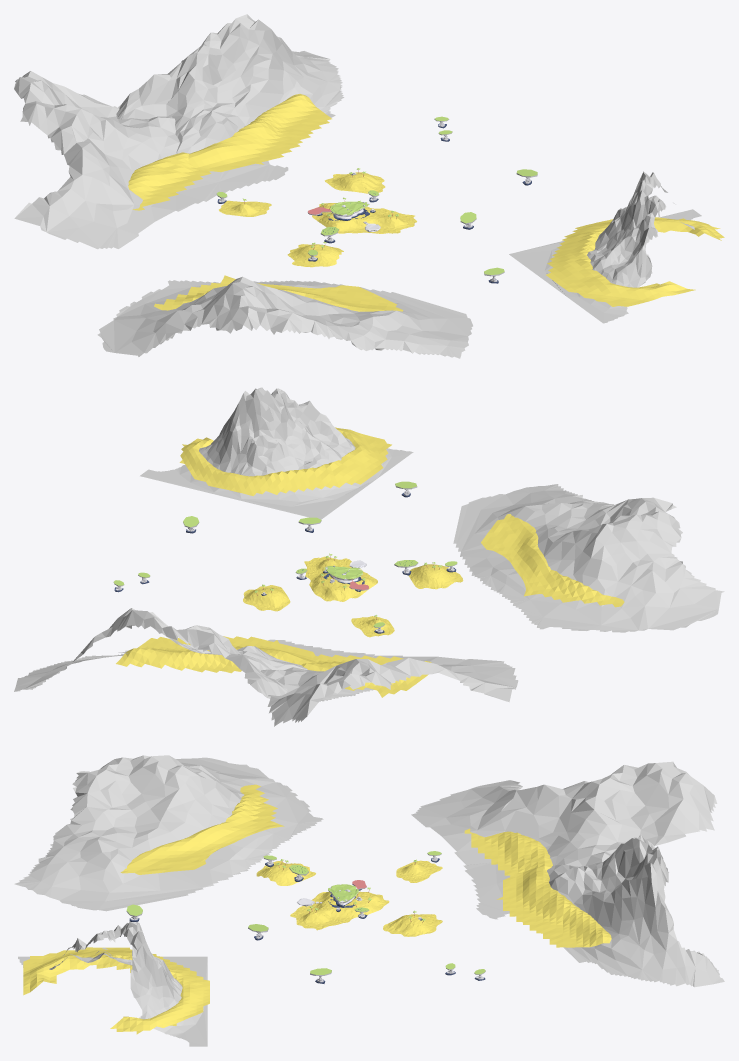
The model's file is terrain.glb.
3 views of the same model, one above another, from view 1: azimuth 30°, elevation 25°; view 2: azimuth 150°, elevation 25°; view 3: azimuth 270°, elevation 25° (orthographic).
Visible parts, largest first — view 1: Landscape.003, Landscape.000, Landscape.002, Landscape.001, Sand.007, Sand.003, Sand, Sand.002, Sand.001; view 2: Landscape.000, Landscape.001, Landscape.003, Sand.007, Landscape.002, Sand.002, Sand, Sand.003, Sand.001; view 3: Landscape.000, Landscape.003, Landscape.002, Landscape.001, Sand.007, Sand.003, Sand.002, Sand, Sand.001.
Boxes of the visible parts, x1=… form: Landscape.003: x1=14, y1=71, x2=288, y2=249; Landscape.000: x1=97, y1=276, x2=472, y2=358; Landscape.002: x1=116, y1=14, x2=344, y2=153; Landscape.001: x1=509, y1=171, x2=701, y2=323; Sand.007: x1=546, y1=217, x2=724, y2=306; Sand.003: x1=188, y1=94, x2=331, y2=172; Sand: x1=219, y1=172, x2=416, y2=267; Sand.002: x1=154, y1=275, x2=403, y2=311; Sand.001: x1=128, y1=152, x2=211, y2=210; Landscape.000: x1=453, y1=484, x2=724, y2=632; Landscape.001: x1=140, y1=387, x2=413, y2=519; Landscape.003: x1=261, y1=639, x2=518, y2=726; Sand.007: x1=179, y1=427, x2=391, y2=496; Landscape.002: x1=14, y1=608, x2=374, y2=701; Sand.002: x1=481, y1=514, x2=624, y2=607; Sand: x1=243, y1=556, x2=463, y2=637; Sand.003: x1=116, y1=636, x2=319, y2=673; Sand.001: x1=301, y1=654, x2=431, y2=697; Landscape.000: x1=14, y1=755, x2=323, y2=911; Landscape.003: x1=411, y1=761, x2=717, y2=919; Landscape.002: x1=547, y1=834, x2=724, y2=987; Landscape.001: x1=18, y1=921, x2=207, y2=1046; Sand.007: x1=23, y1=947, x2=209, y2=1034; Sand.003: x1=497, y1=867, x2=611, y2=947; Sand.002: x1=120, y1=784, x2=284, y2=874; Sand: x1=256, y1=860, x2=442, y2=936; Sand.001: x1=464, y1=828, x2=552, y2=875.
Size of the model in its own units: 638 by 86.77 by 667.
